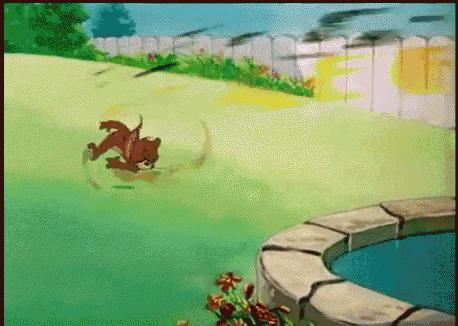jerry: (85, 113, 162, 174)
